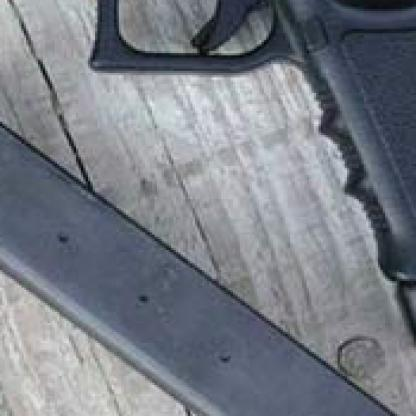gun: (0, 0, 414, 352)
